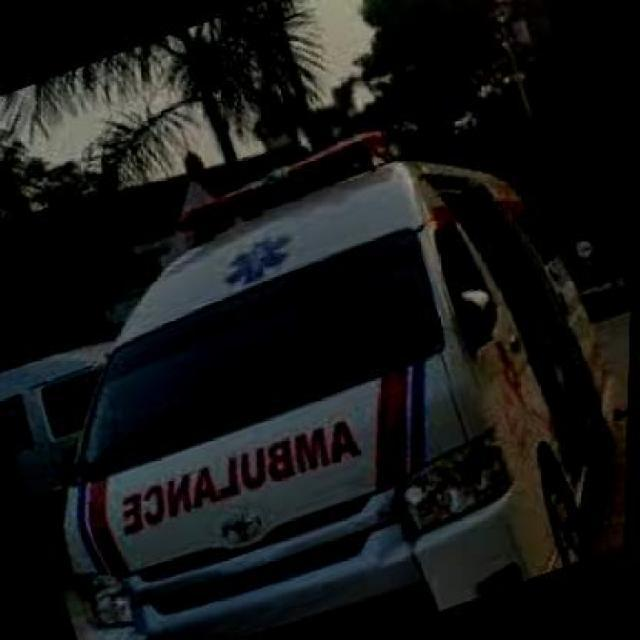emergency-vehicle: (0, 81, 638, 640)
